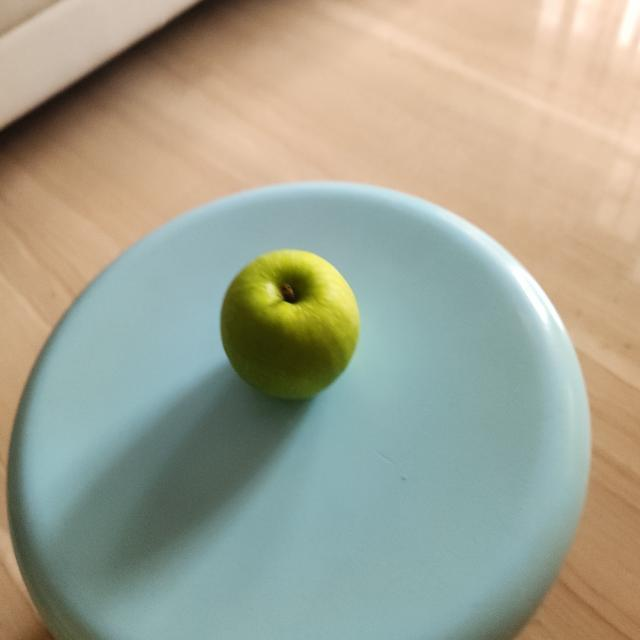apple: (216, 240, 362, 410)
